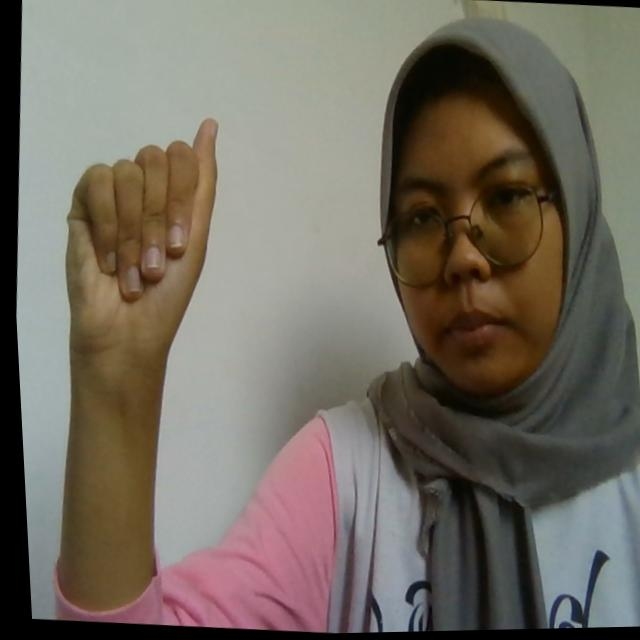A: (49, 107, 229, 353)
